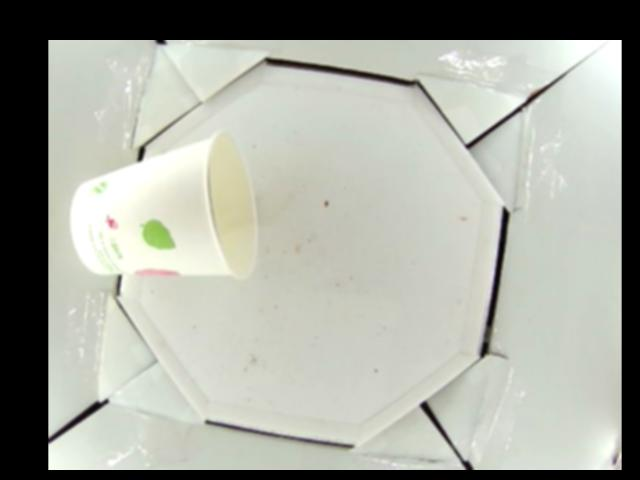Cup: (68, 130, 257, 280)
